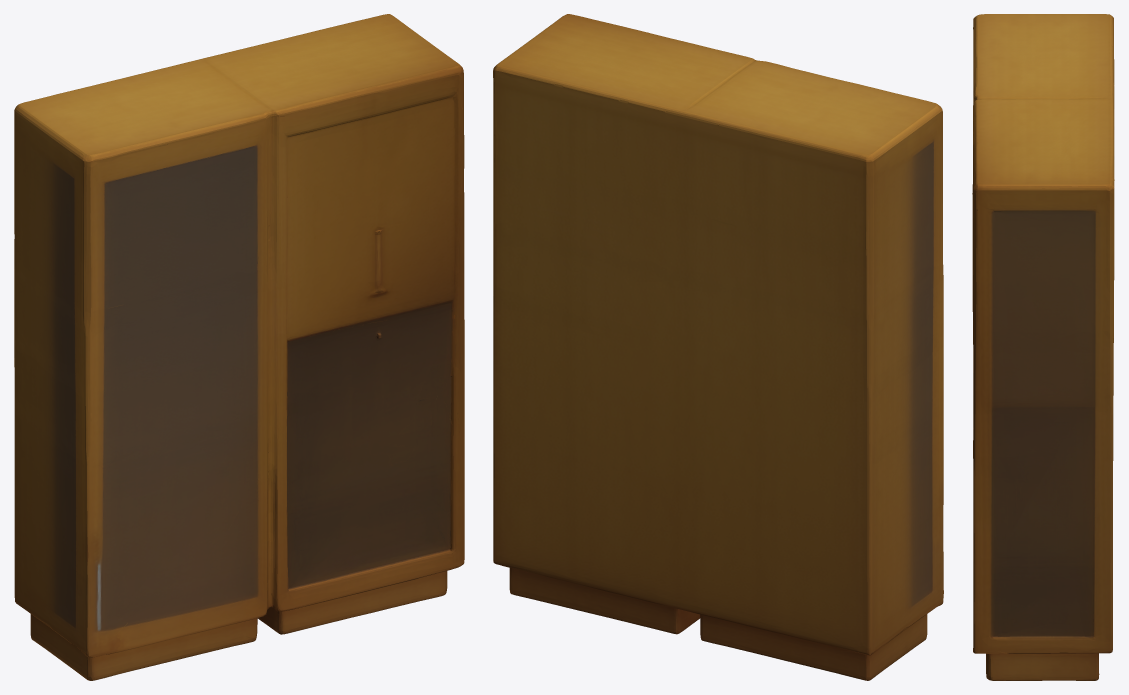
3 views of the same model, side by side, from view 1: azimuth 30°, elevation 25°; view 2: azimuth 150°, elevation 25°; view 3: azimuth 270°, elevation 25° (orthographic). The views are drawn at different scales.
Visible parts, largest first — view 1: world; view 2: world; view 3: world.
Boxes of the visible parts, <box> form: world: <box>14,14,464,680</box>; world: <box>493,14,943,680</box>; world: <box>972,14,1114,680</box>.
Size of the model in its own units: 0.7482 by 1 by 0.2578.
Materials: 1 (1 with a texture image).
